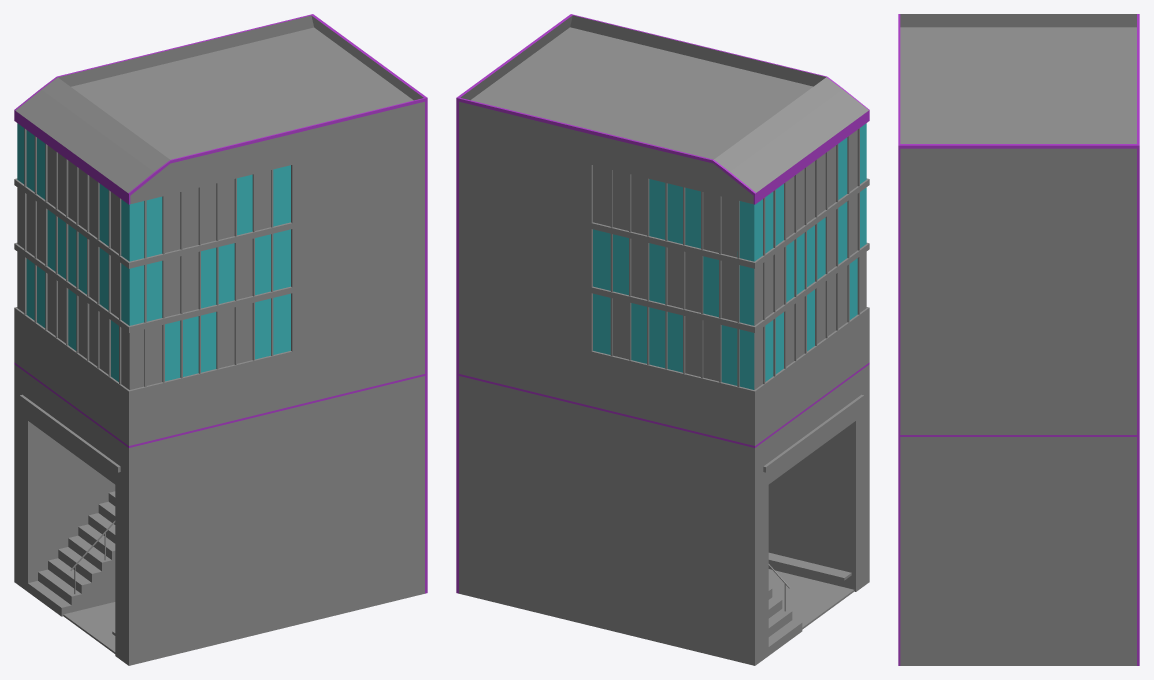
Rendered from buildings_S_02_VAR1 1.fbx.
3 views of the same model, side by side, from view 1: azimuth 30°, elevation 25°; view 2: azimuth 150°, elevation 25°; view 3: azimuth 270°, elevation 25° (orthographic). The views are drawn at different scales.
Parts seen in each view (by area): view 1: buildings_S_02_VAR1; view 2: buildings_S_02_VAR1; view 3: buildings_S_02_VAR1.
Boxes of the visible parts, box(x1,y1,x2,y2) form: buildings_S_02_VAR1: box(14, 14, 427, 665); buildings_S_02_VAR1: box(456, 14, 869, 665); buildings_S_02_VAR1: box(898, 14, 1139, 665).
Bounding box in the file's own units: 12.61 × 19.78 × 8.3.
